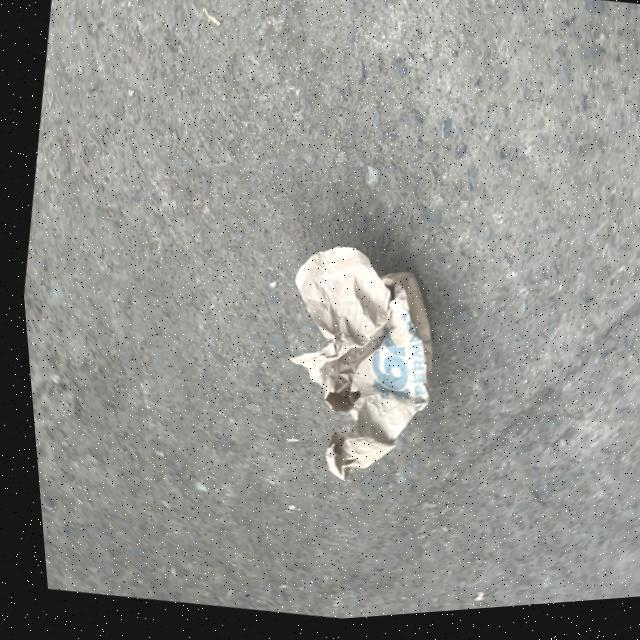Paper_Bag: (253, 240, 452, 502)
